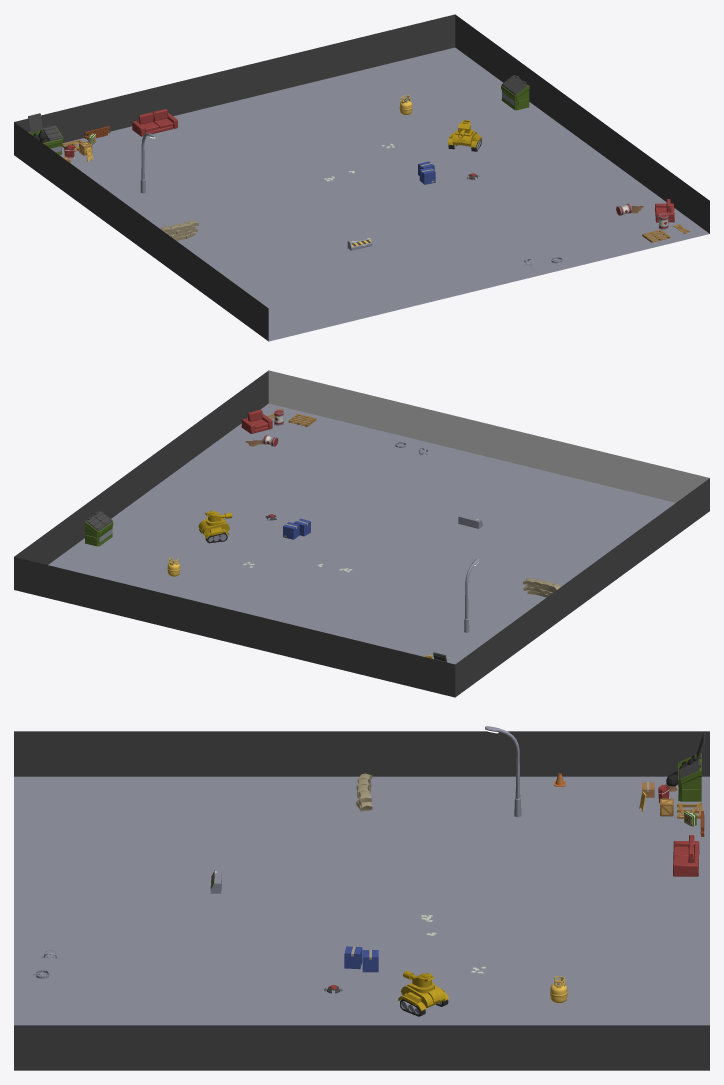
The model's file is knife_fight_map.glb.
The picture shows the model from 3 angles, top to bottom: view 1: azimuth 30°, elevation 25°; view 2: azimuth 150°, elevation 25°; view 3: azimuth 270°, elevation 25°; orthographic projection. The views are drawn at different scales.
Visible parts, largest first — view 1: Plane, Sofa, TrashContainer, TrashContainer_Open.001, Tank; view 2: Plane, TrashContainer, Tank, Sofa_Small; view 3: Plane, Tank, TrashContainer_Open.001, Sofa, StreetLight.
Part boxes in pixels (bbox=[...]): Plane: bbox=[14, 14, 709, 341]; Sofa: bbox=[132, 109, 177, 136]; TrashContainer: bbox=[501, 75, 529, 110]; TrashContainer_Open.001: bbox=[28, 113, 62, 155]; Tank: bbox=[448, 120, 481, 151]; Plane: bbox=[14, 370, 709, 697]; TrashContainer: bbox=[84, 511, 113, 546]; Tank: bbox=[198, 510, 232, 543]; Sofa_Small: bbox=[241, 409, 272, 433]; Plane: bbox=[14, 731, 709, 1070]; Tank: bbox=[398, 970, 449, 1016]; TrashContainer_Open.001: bbox=[664, 733, 704, 801]; Sofa: bbox=[673, 835, 699, 876]; StreetLight: bbox=[485, 726, 521, 817].
Bounding box in the file's own units: 39.88 × 5.71 × 39.88.
